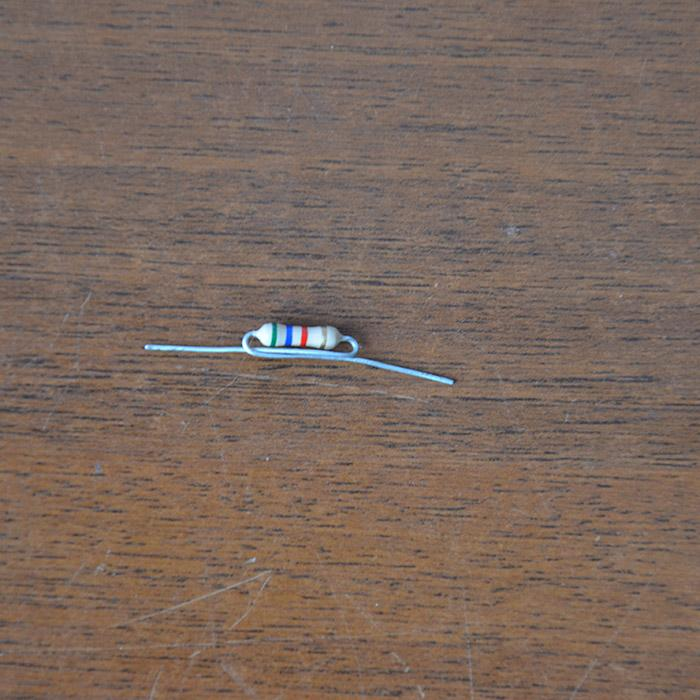resistor: (251, 322, 344, 350)
